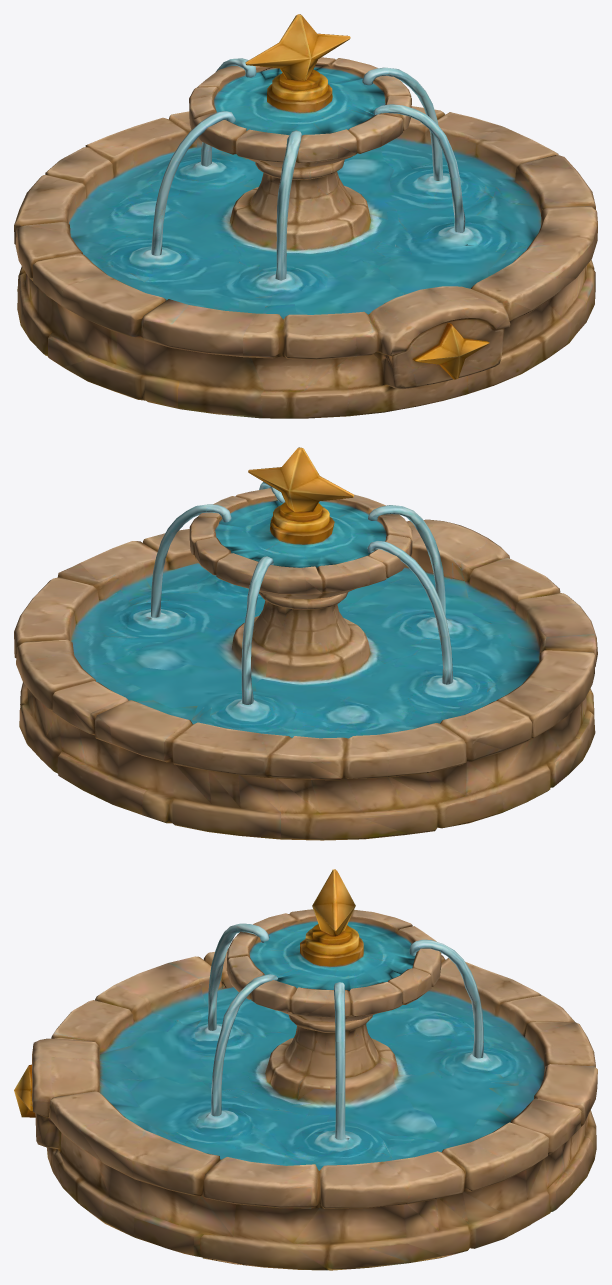
The model's file is star-fountain.web.glb.
3 views of the same model, one above another, from view 1: azimuth 30°, elevation 25°; view 2: azimuth 150°, elevation 25°; view 3: azimuth 270°, elevation 25° (orthographic).
Visible parts, largest first — view 1: star-fountain; view 2: star-fountain; view 3: star-fountain.
Boxes of the visible parts, box(x1,y1,x2,y2) form: star-fountain: box(14, 14, 597, 418); star-fountain: box(14, 447, 597, 840); star-fountain: box(14, 869, 597, 1270).
Size of the model in its own units: 3.8 by 2 by 3.8.
Materials: 1 (1 with a texture image).
